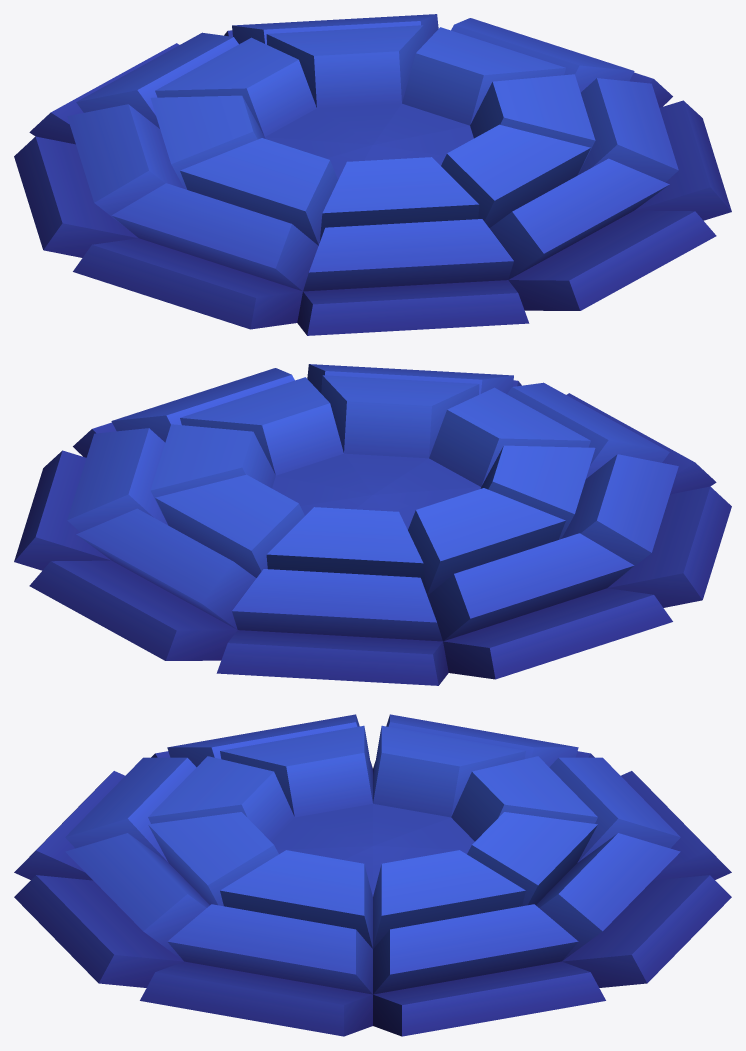
File: anemone_far6.fbx
3 views of the same model, one above another, from view 1: azimuth 30°, elevation 25°; view 2: azimuth 150°, elevation 25°; view 3: azimuth 270°, elevation 25° (orthographic).
Parts seen in each view (by area): view 1: anemone_far6; view 2: anemone_far6; view 3: anemone_far6.
Boxes of the visible parts, bbox=[...] form: anemone_far6: bbox=[14, 14, 731, 335]; anemone_far6: bbox=[14, 364, 731, 685]; anemone_far6: bbox=[14, 714, 731, 1036].
Bounding box in the file's own units: 0.0432 × 0.00634 × 0.0432.
1 material, 1 textured.
